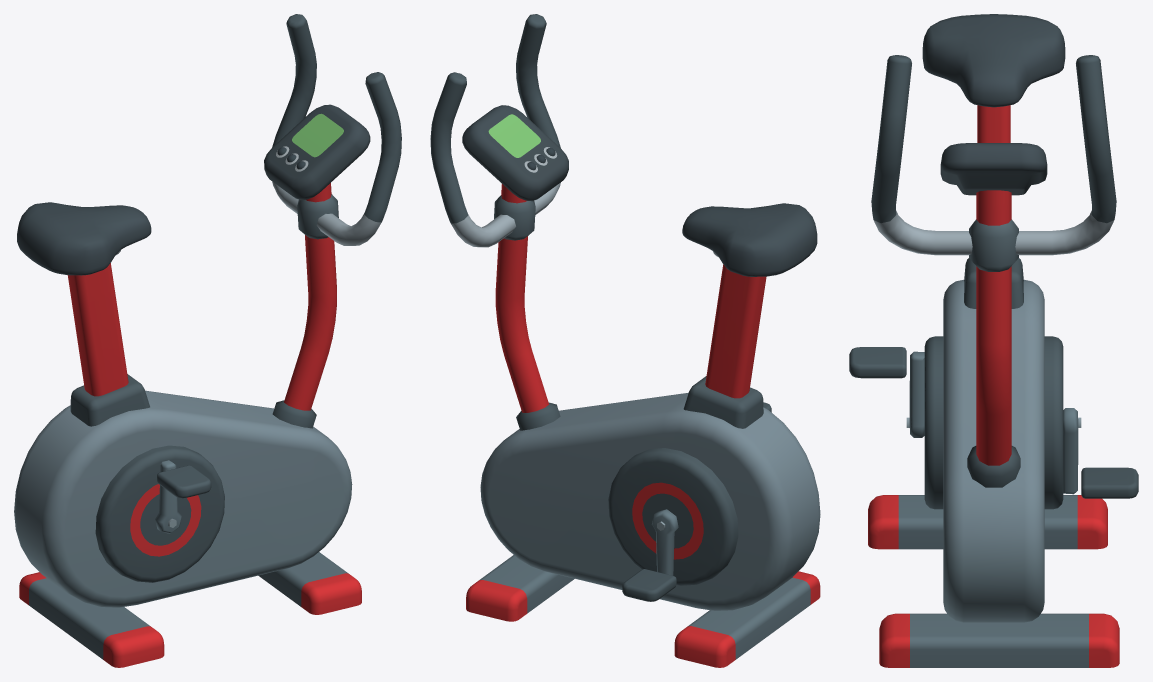
File: ExerciseBike_01.glb
3 views of the same model, side by side, from view 1: azimuth 30°, elevation 25°; view 2: azimuth 150°, elevation 25°; view 3: azimuth 270°, elevation 25° (orthographic). The views are drawn at different scales.
Visible parts, largest first — view 1: ExerciseBike_01; view 2: ExerciseBike_01; view 3: ExerciseBike_01.
Part boxes in pixels (x1,y1,x2,y2): ExerciseBike_01: [14, 14, 401, 667]; ExerciseBike_01: [430, 14, 820, 667]; ExerciseBike_01: [849, 14, 1138, 667].
Bounding box in the file's own units: 0.9357 × 1.41 × 0.5926.
Materials: 1 (1 with a texture image).
